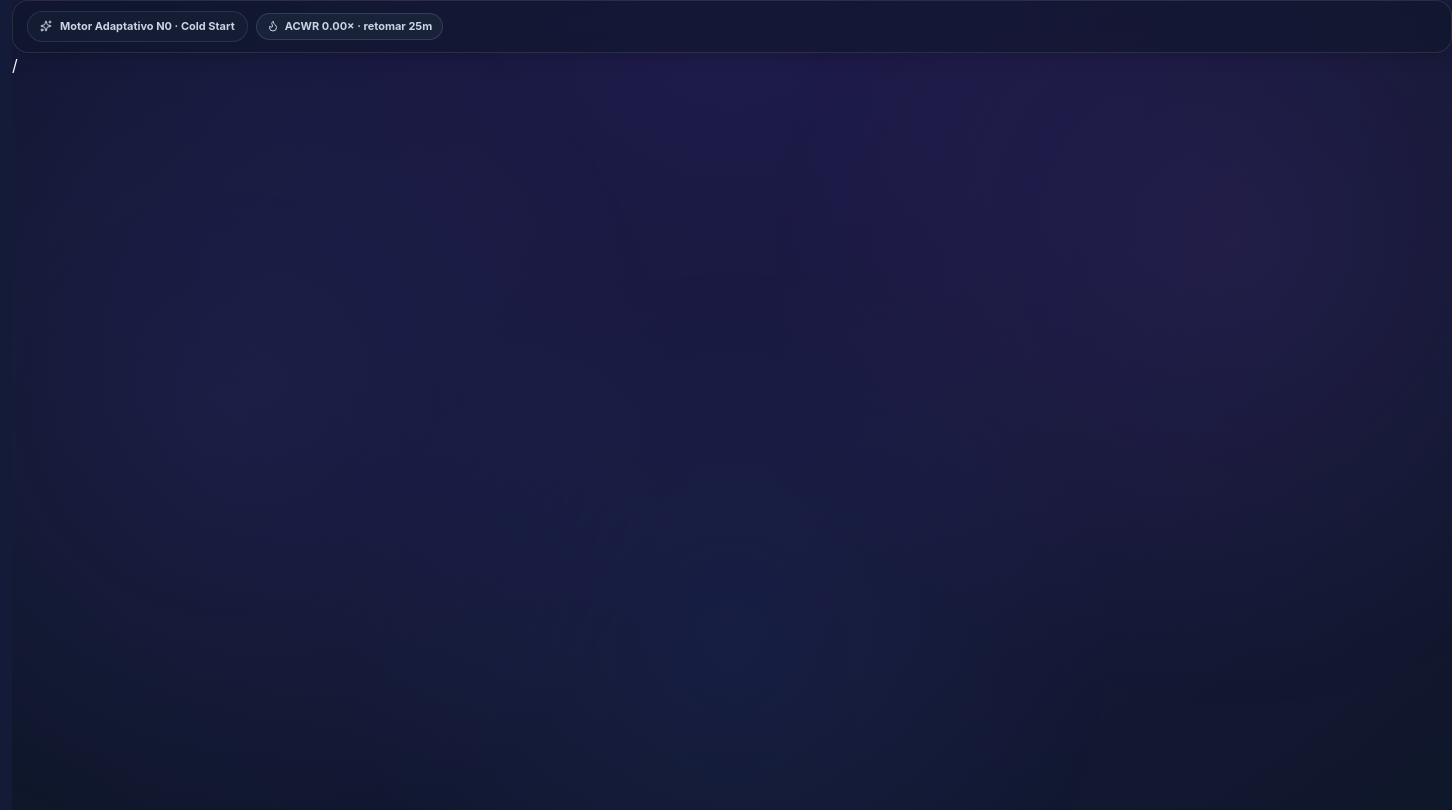
Meu Painel — Auditoria Completa de Bugs & Melhorias (2026) › 3. AdaptivePulseStrip: ACWR Inactive/Detraining Zones & Coach Navigation › shows neutral inactive ACWR chip for old logs (>7d) and navigates to /coach when clicking maturity pill
This screenshot has width=1452, height=810.
Expected: the element showing "Motor Adaptativo N0 · Cold Start ACWR 0.00× · retomar 25m /" is shown, [12, 0, 1451, 76]
Click the button with aria-label "Abrir Coach IA". click: (137, 26)
box: [27, 11, 248, 42]
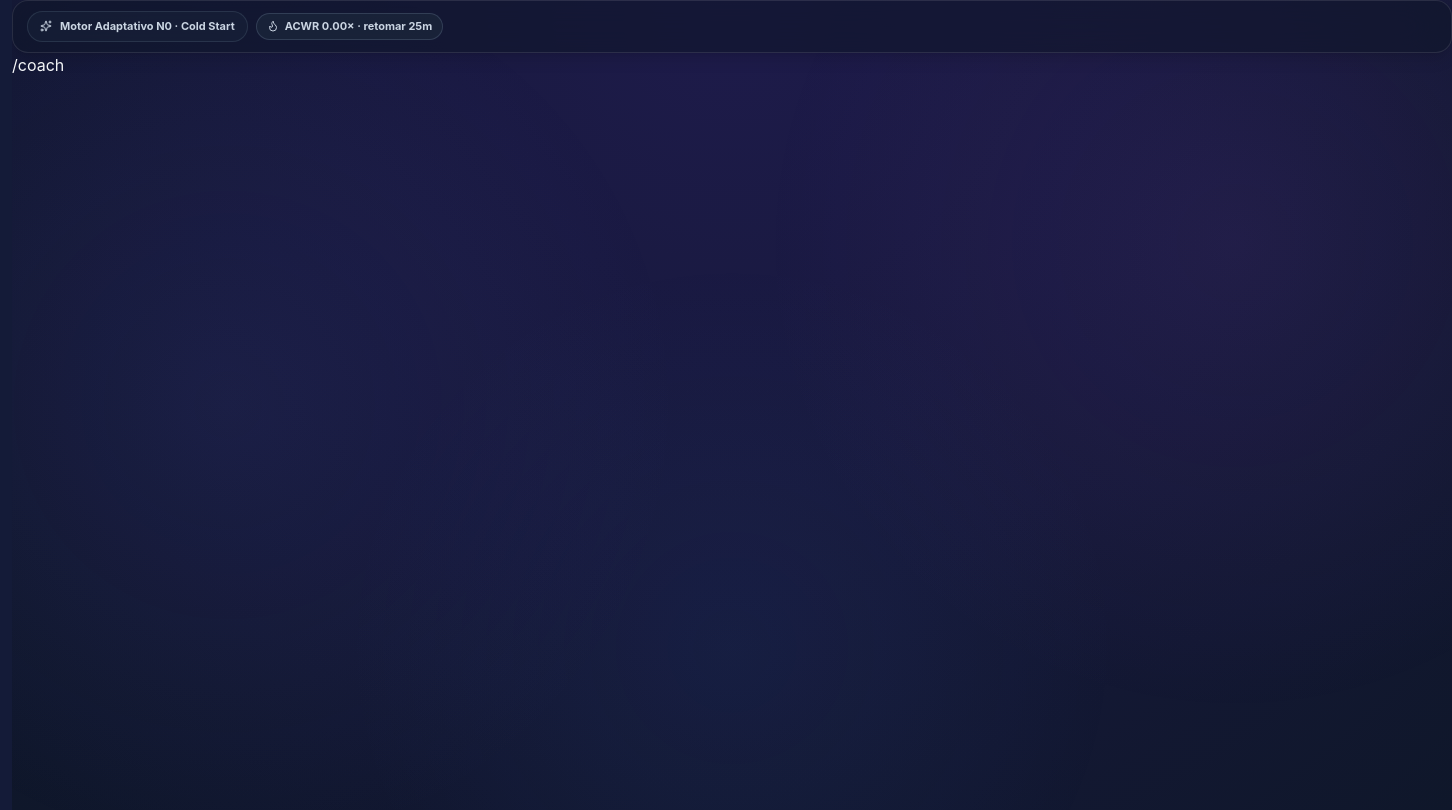
Now the text with test id "loc" reads "/coach", box [12, 54, 64, 74]
